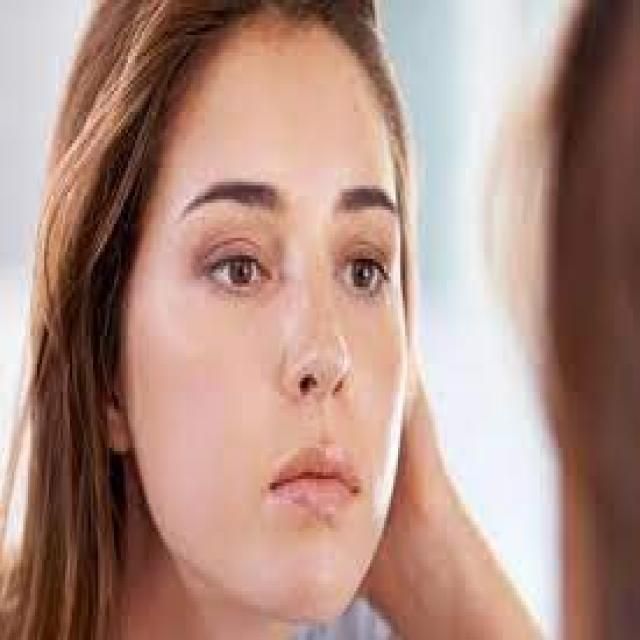Oily-Skin: (174, 306, 266, 482), (256, 83, 383, 165)
